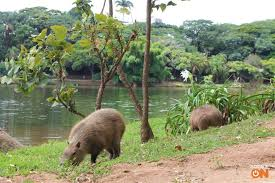capivara: (62, 108, 127, 165), (189, 104, 230, 134)
